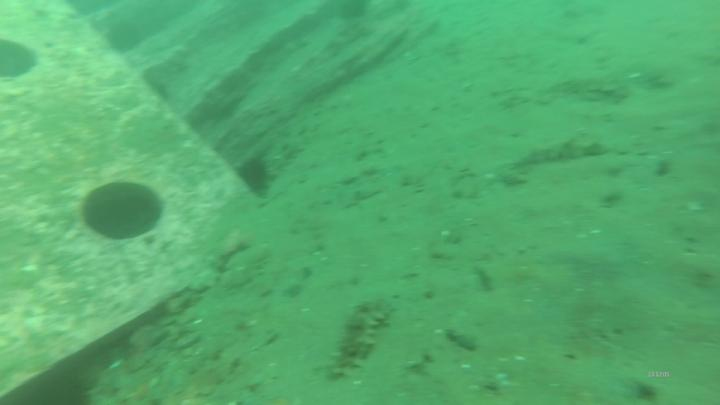echinus: (231, 152, 278, 198)
holothurian: (336, 297, 393, 374), (518, 132, 609, 166)
